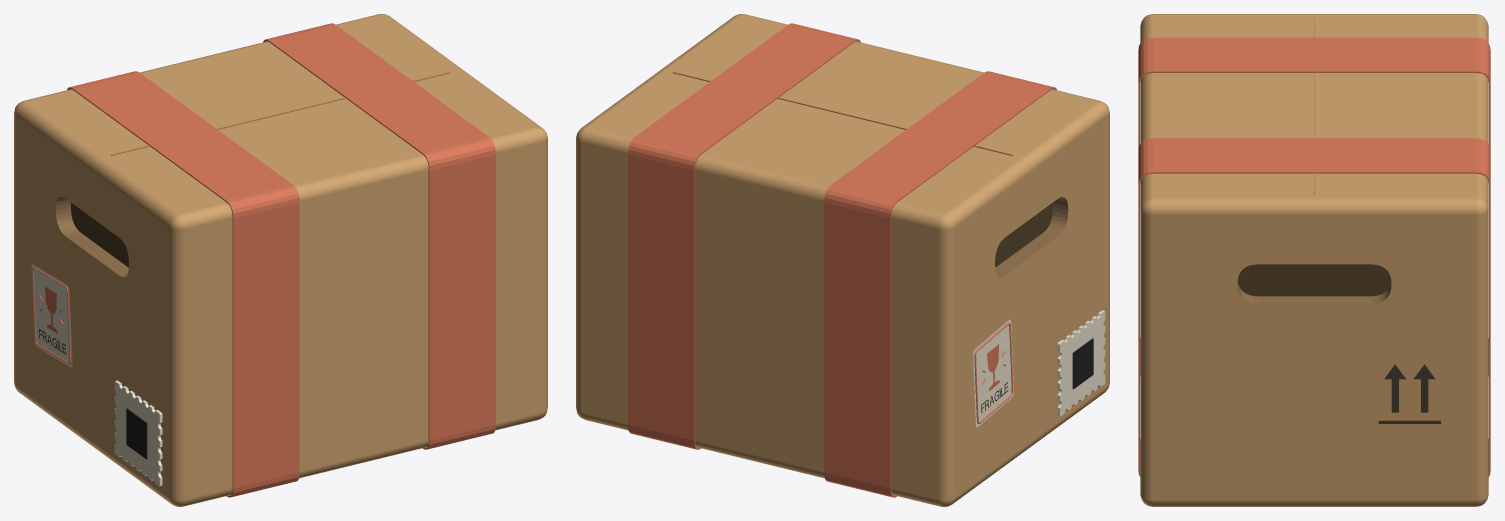
Rendered from play-parcel-large-coral.glb.
3 renders of one model, left to right at view 1: azimuth 30°, elevation 25°; view 2: azimuth 150°, elevation 25°; view 3: azimuth 270°, elevation 25°, orthographic. The views are drawn at different scales.
Parts seen in each view (by area): view 1: Parcel_Carton, Parcel_Tape_Parallel_1, Parcel_Tape_Parallel_2, Parcel_Paper_Label, Parcel_Care_Fragile_Paper, Parcel_Carry_Slot_Walls_Negative_X, Parcel_Carry_Slot_Interior_Negative_X, Parcel_Label_Square; view 2: Parcel_Carton, Parcel_Tape_Parallel_1, Parcel_Tape_Parallel_2, Parcel_Paper_Label, Parcel_Care_Fragile_Paper, Parcel_Carry_Slot_Walls_Negative_X, Parcel_Carry_Slot_Interior_Negative_X, Parcel_Label_Square; view 3: Parcel_Carton, Parcel_Tape_Parallel_2, Parcel_Tape_Parallel_1, Parcel_Carry_Slot_Interior_Positive_X, Parcel_Carry_Slot_Walls_Positive_X, Parcel_Up_Arrows_Positive_X.
Part boxes in pixels (box(x1,y1,x2,y2)): Parcel_Carton: box(14, 14, 547, 506); Parcel_Tape_Parallel_1: box(67, 71, 299, 497); Parcel_Tape_Parallel_2: box(263, 23, 495, 449); Parcel_Paper_Label: box(114, 380, 162, 486); Parcel_Care_Fragile_Paper: box(31, 264, 72, 367); Parcel_Carry_Slot_Walls_Negative_X: box(56, 196, 128, 277); Parcel_Carry_Slot_Interior_Negative_X: box(71, 202, 128, 267); Parcel_Label_Square: box(126, 408, 147, 459); Parcel_Carton: box(576, 14, 1109, 506); Parcel_Tape_Parallel_1: box(824, 71, 1056, 497); Parcel_Tape_Parallel_2: box(628, 23, 860, 449); Parcel_Paper_Label: box(1057, 310, 1105, 416); Parcel_Care_Fragile_Paper: box(973, 319, 1013, 427); Parcel_Carry_Slot_Walls_Negative_X: box(995, 197, 1068, 277); Parcel_Carry_Slot_Interior_Negative_X: box(995, 202, 1052, 267); Parcel_Label_Square: box(1072, 338, 1093, 389); Parcel_Carton: box(1140, 14, 1488, 506); Parcel_Tape_Parallel_2: box(1138, 138, 1490, 476); Parcel_Tape_Parallel_1: box(1138, 37, 1490, 376); Parcel_Carry_Slot_Interior_Positive_X: box(1237, 264, 1391, 296); Parcel_Carry_Slot_Walls_Positive_X: box(1237, 281, 1391, 304); Parcel_Up_Arrows_Positive_X: box(1378, 364, 1440, 423).
Size of the model in its own units: 0.253 by 0.187 by 0.192.
